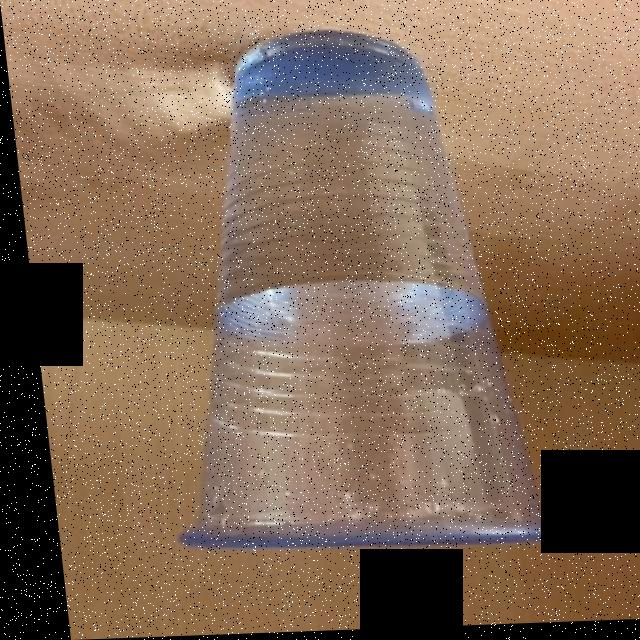water: (215, 52, 479, 349)
